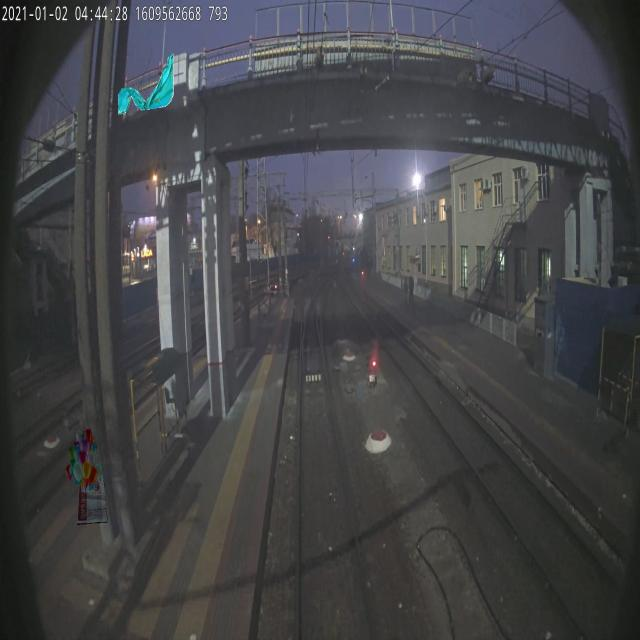balloon: (65, 428, 102, 492)
floating object: (118, 52, 174, 116)
plastic bag: (76, 462, 108, 526)
